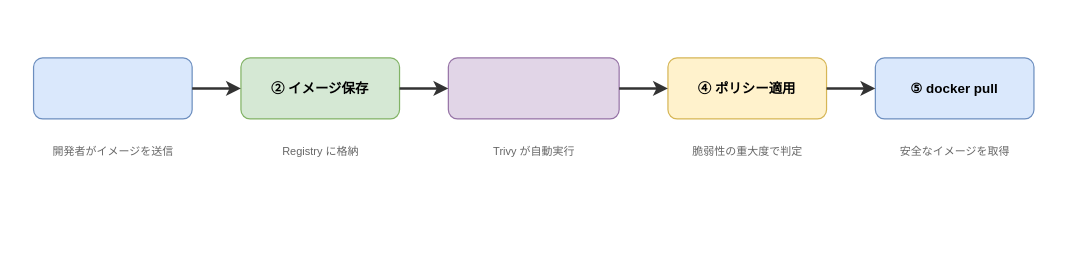
The diagram is 1078 pixels wide and 261 high, and some of its shapes have lost their labels. The centre of each missing label's shape, as x and y in pixels:
① docker push: pixel 112 88
③ 脆弱性スキャン: pixel 533 88
